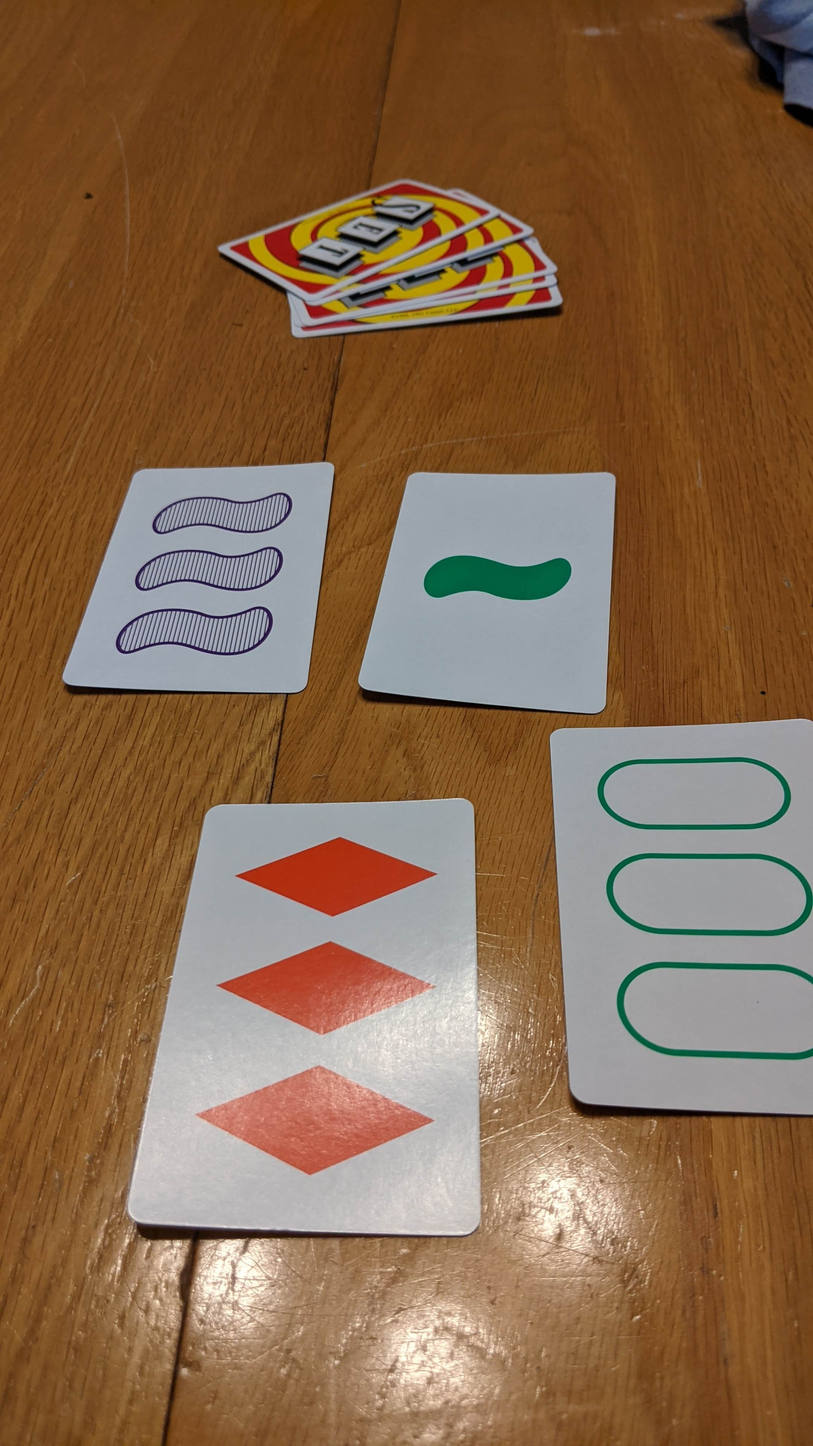card: (130, 796, 483, 1239), (547, 719, 813, 1115), (61, 461, 336, 694), (358, 471, 617, 714)
